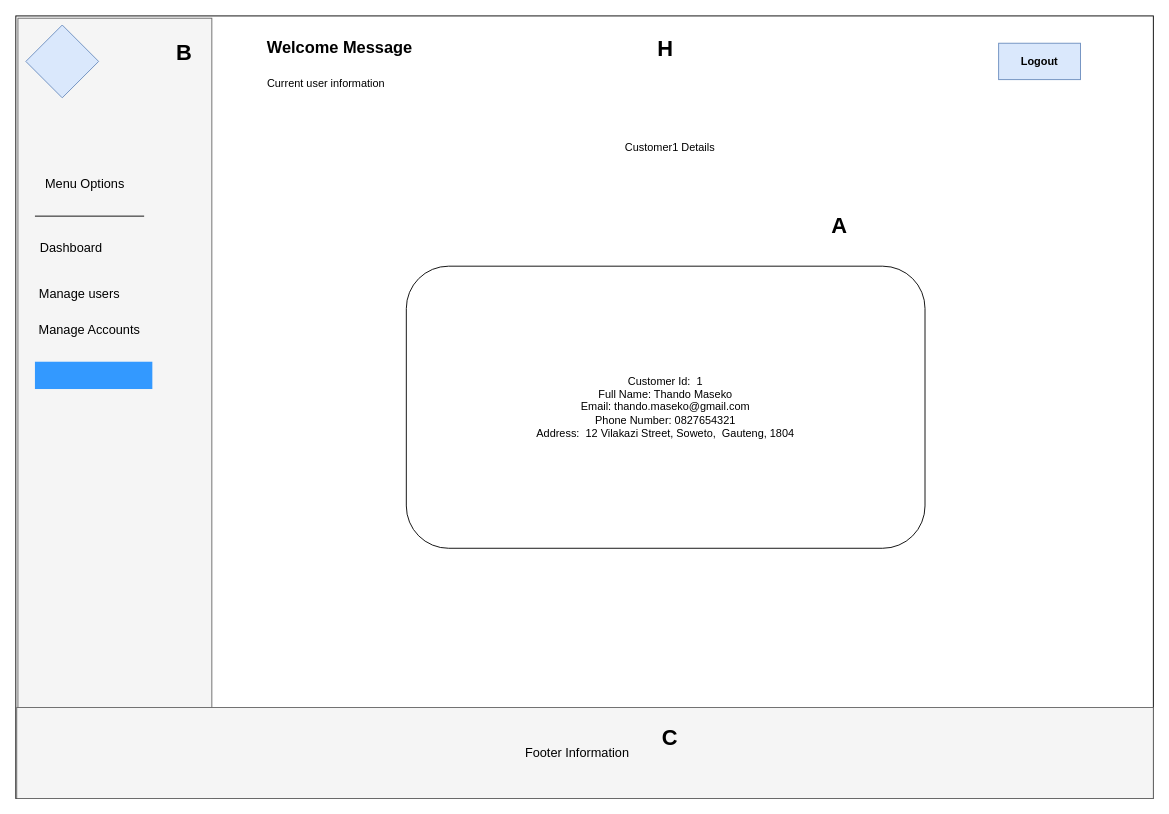
Image size: 1169x814. Some labels were removed from this diagram. Each missing label, with the box of its shape:
LOGO: (25, 24, 99, 98)
Manage Customers: (34, 361, 152, 389)
